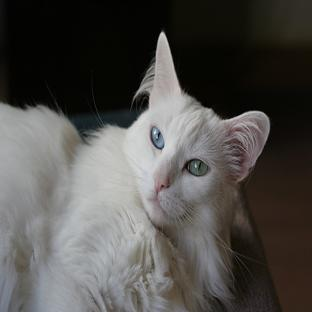Animal: (0, 33, 269, 311)
